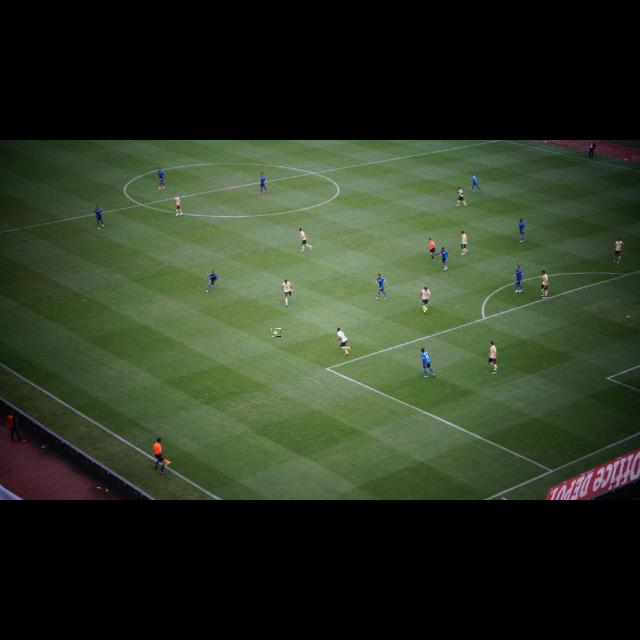Football: (271, 329, 281, 337)
